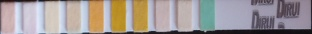color 1: (2, 3, 13, 34)
color 10: (200, 1, 212, 29)
color 2: (24, 3, 35, 32)
color 3: (45, 2, 57, 32)
color 4: (67, 2, 79, 32)
color 5: (90, 1, 102, 31)
color 6: (111, 1, 124, 31)
color 7: (134, 1, 147, 30)
color 8: (156, 1, 169, 30)
color 9: (178, 1, 191, 30)
